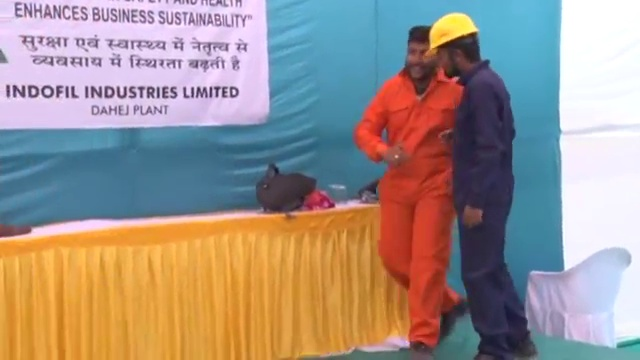helmet: (425, 10, 479, 58)
helmet_off: (407, 24, 434, 82)
helmet_on: (424, 10, 493, 79)
person: (424, 12, 540, 359), (358, 24, 466, 357)
